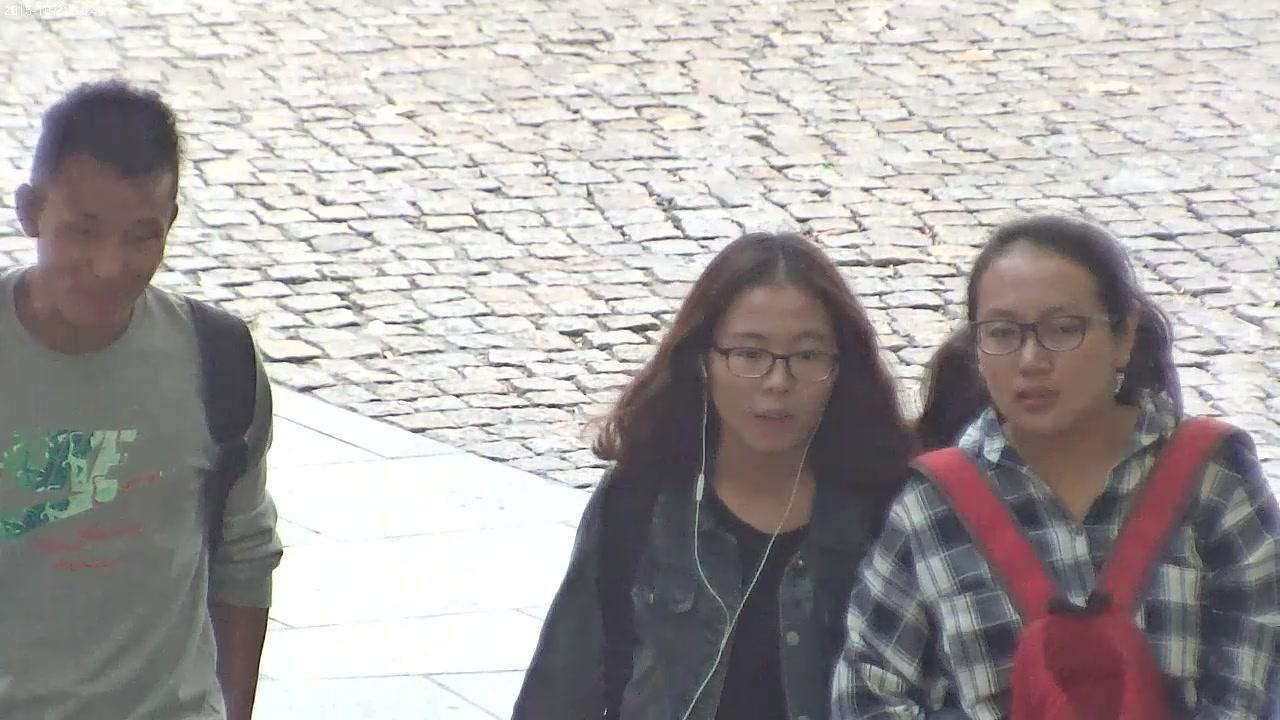person: (830, 217, 1280, 720), (508, 231, 908, 720), (0, 82, 282, 720)
